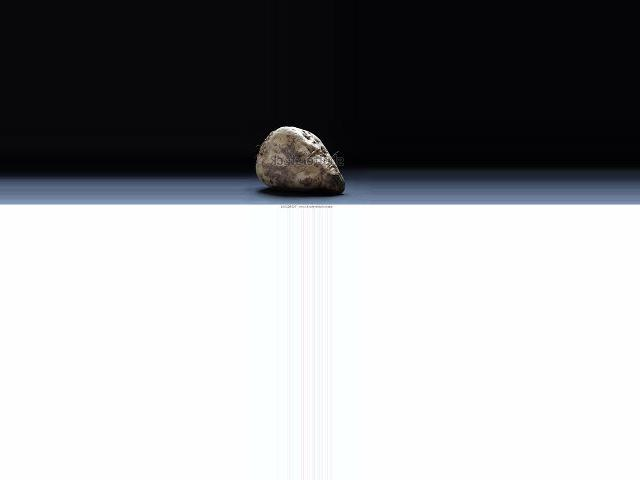beet: (254, 127, 343, 193)
